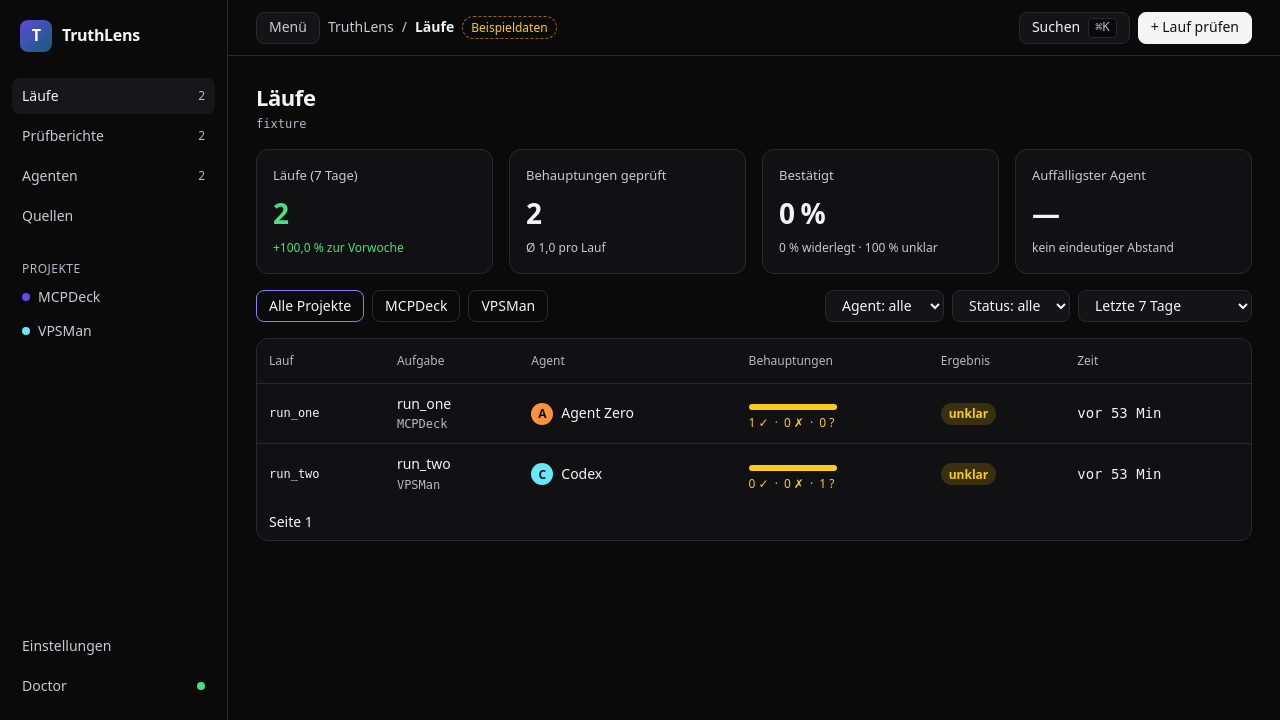
Test: applies a project filter to the same figures as the table
The image size is (1280, 720).
Expected: the text "2" below "Läufe (7 Tage)" is shown, [273,194,288,232]
Click the button "VPSMan": (508, 306) [468,290,548,322]
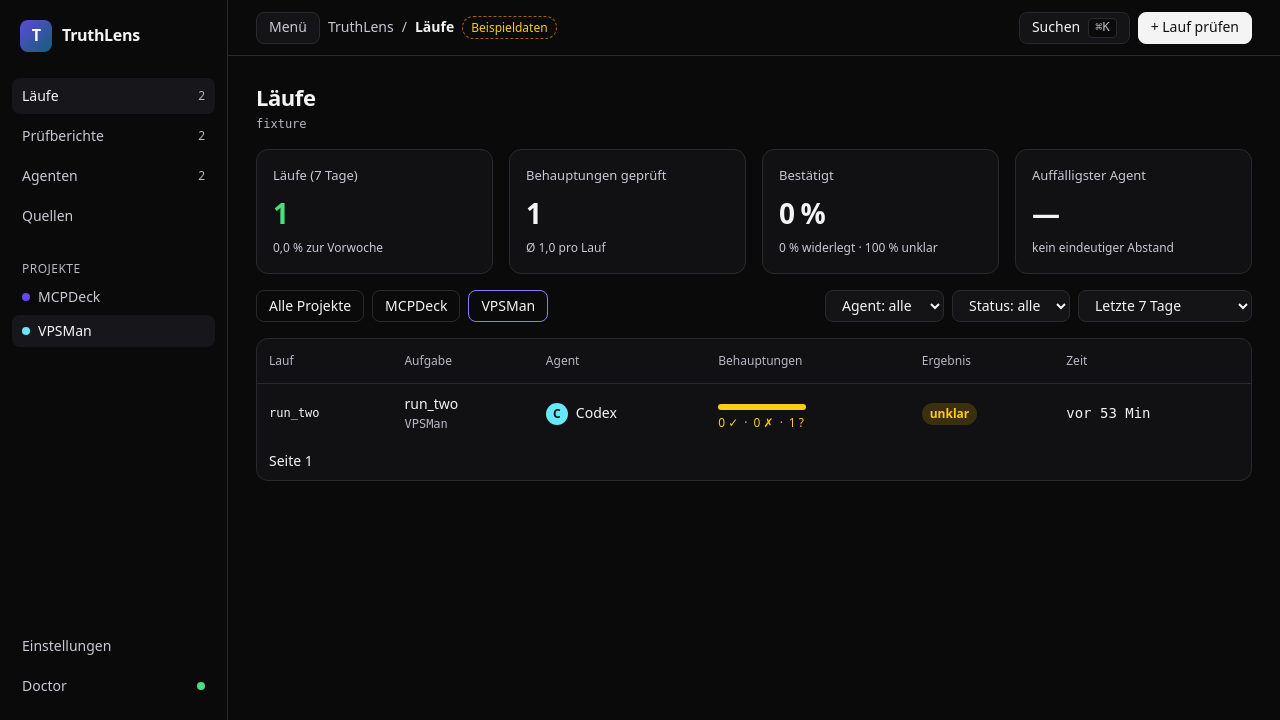
Expected: the row "run_two" is shown, [257,383,1251,443]
Expected: the text "1" below "Läufe (7 Tage)" is shown, [273,194,288,232]
Expected: the link "run_one" is gone
